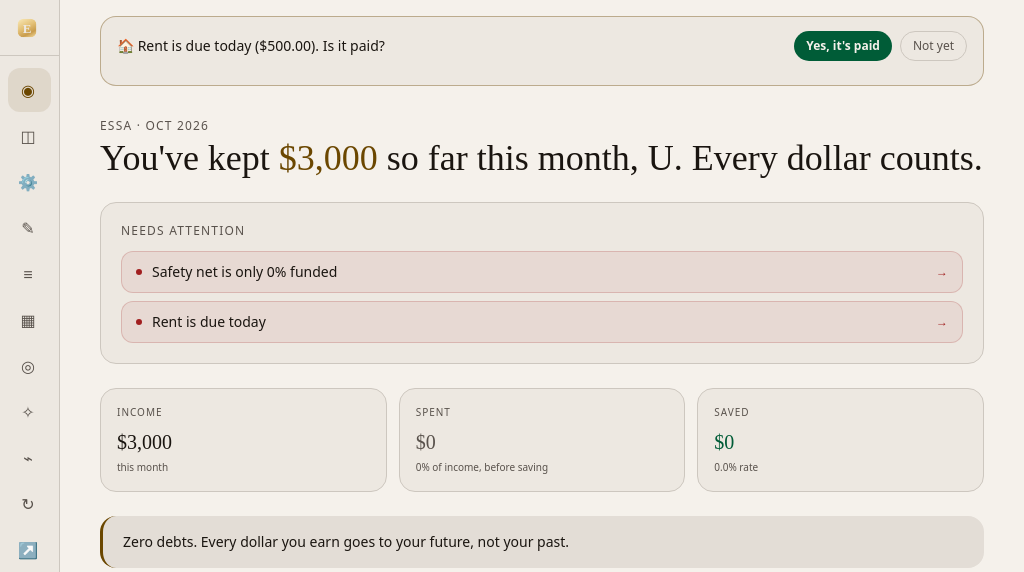
Test case: an edit made right after the account's first render, before its effects run, is kept, and the snapshot is saved on top of it
This screenshot has width=1024, height=572.
Click the button "Yes, it's paid": (843, 46) top-left (794, 31), bottom-right (892, 61)
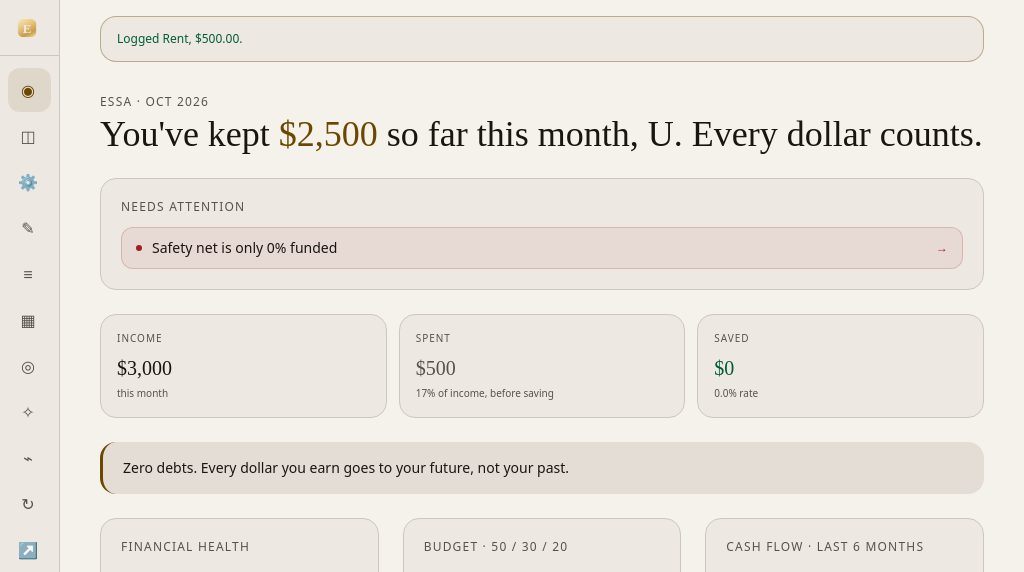
Expected: the text "Rent is due today ($500.00). Is it paid?" is gone
